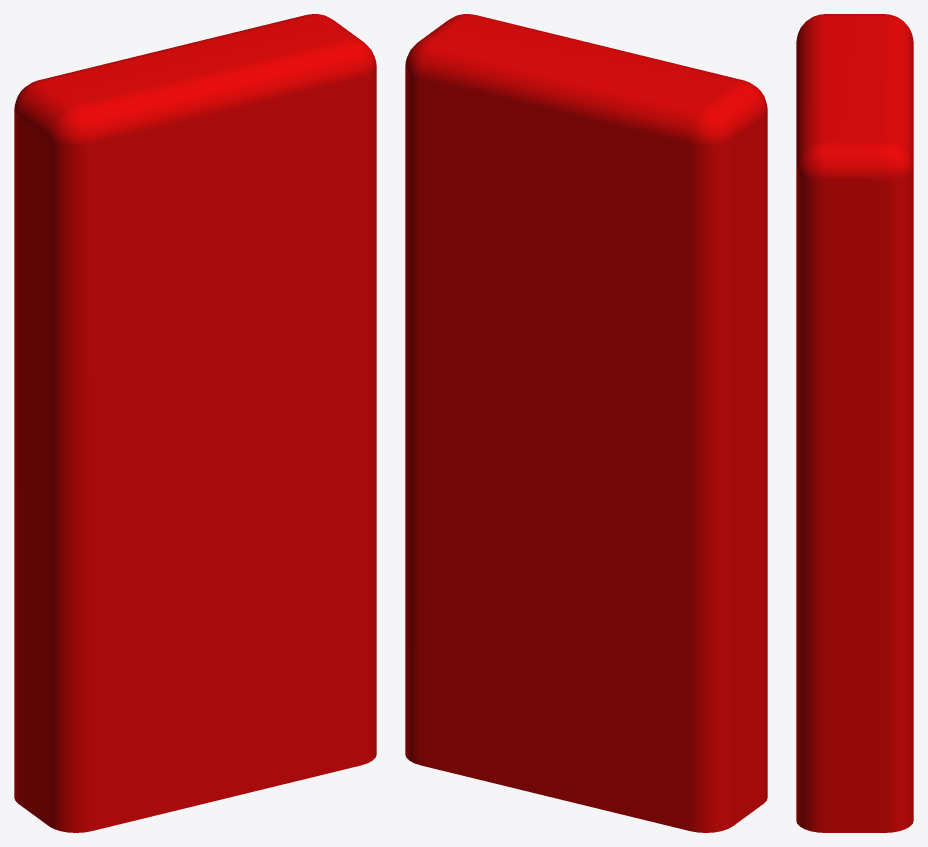
The model's file is AGVE_GroundShort.fbx.
3 views of the same model, side by side, from view 1: azimuth 30°, elevation 25°; view 2: azimuth 150°, elevation 25°; view 3: azimuth 270°, elevation 25° (orthographic). The views are drawn at different scales.
Parts seen in each view (by area): view 1: Ground4; view 2: Ground4; view 3: Ground4.
Part boxes in pixels (x1,y1,x2,y2): Ground4: (14, 14, 376, 832); Ground4: (405, 14, 767, 832); Ground4: (796, 14, 913, 832).
Size of the model in its own units: 103 by 218 by 34.22.
